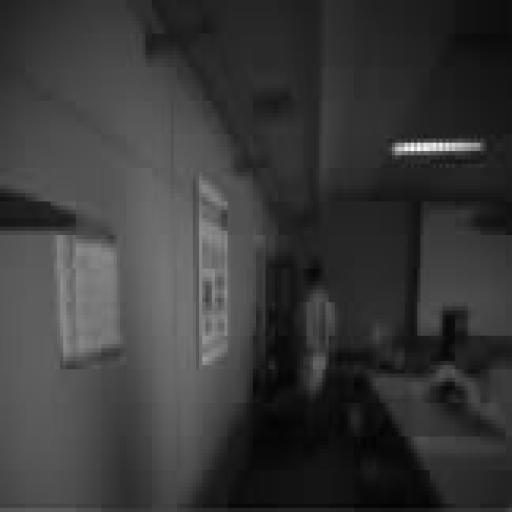human: (298, 261, 338, 444)
